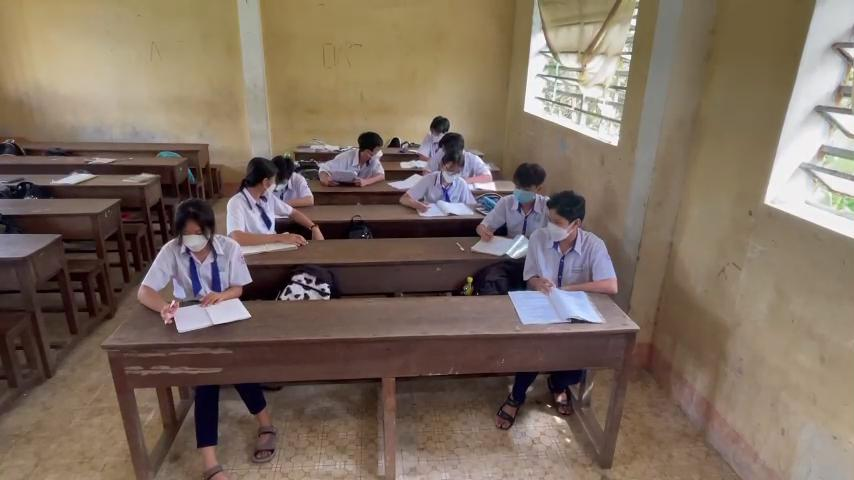Hand Under Table: (454, 177, 477, 209)
Look Around: (233, 154, 283, 201), (337, 121, 387, 168), (535, 190, 585, 237)
